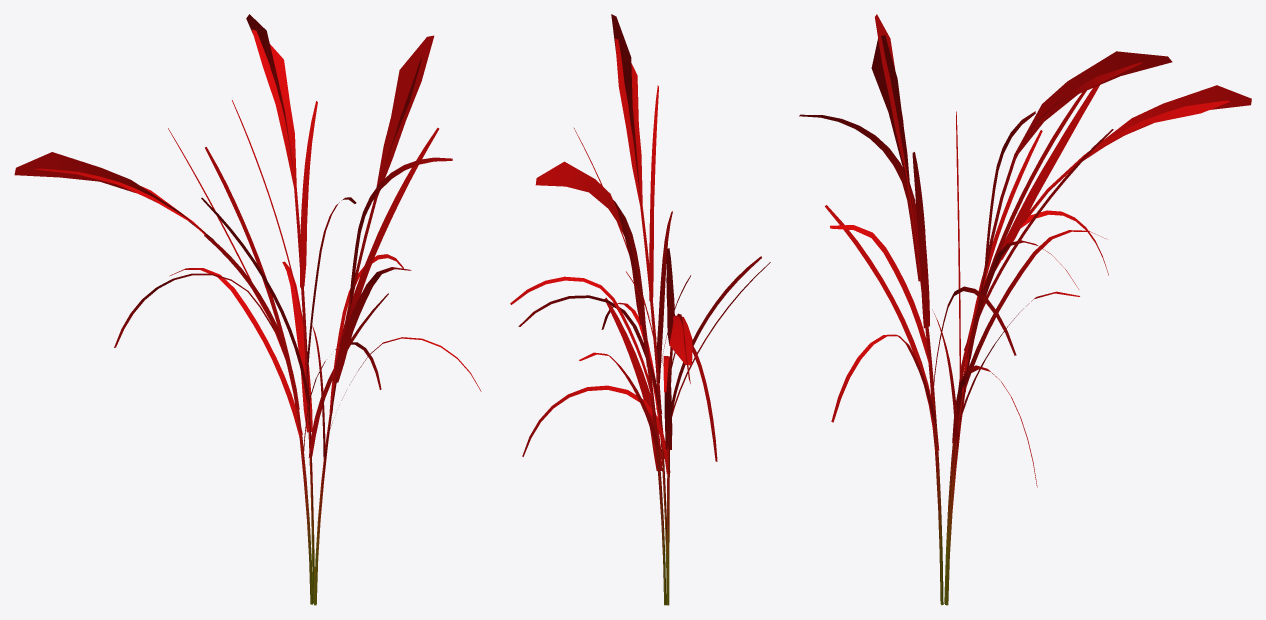
The model's file is Var13_LOD0.fbx.
The picture shows the model from 3 angles, left to right: view 1: azimuth 30°, elevation 25°; view 2: azimuth 150°, elevation 25°; view 3: azimuth 270°, elevation 25°; orthographic projection. The views are drawn at different scales.
Parts seen in each view (by area): view 1: _5nfj_Var13_LOD0; view 2: _5nfj_Var13_LOD0; view 3: _5nfj_Var13_LOD0.
Part boxes in pixels (x1,y1,x2,y2): _5nfj_Var13_LOD0: (14, 14, 481, 605); _5nfj_Var13_LOD0: (510, 14, 770, 605); _5nfj_Var13_LOD0: (799, 14, 1251, 605).
Size of the model in its own units: 15.74 by 30.14 by 19.44.
